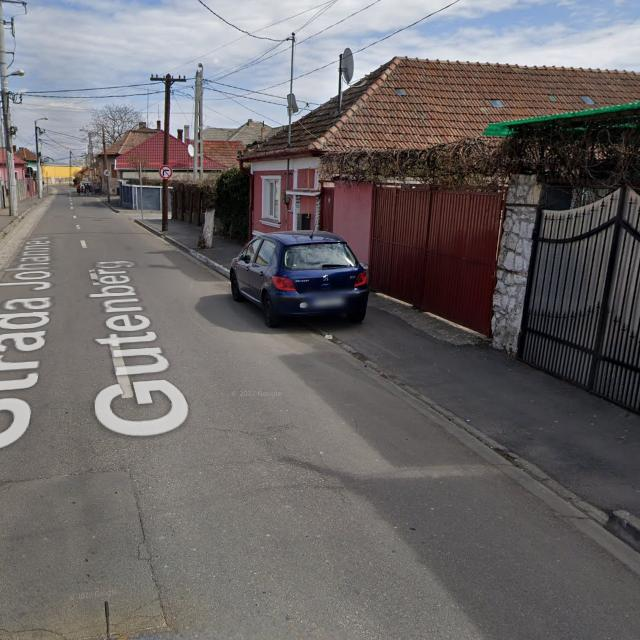forb_right: (160, 166, 172, 180)
